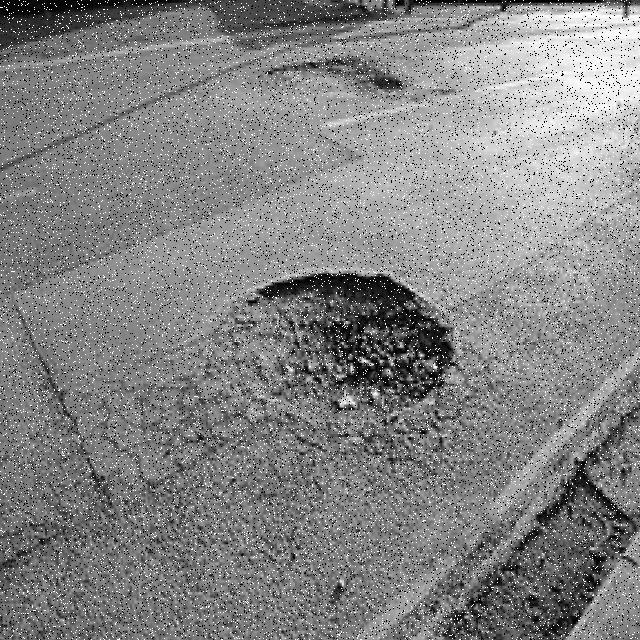pothole: (237, 274, 460, 446)
